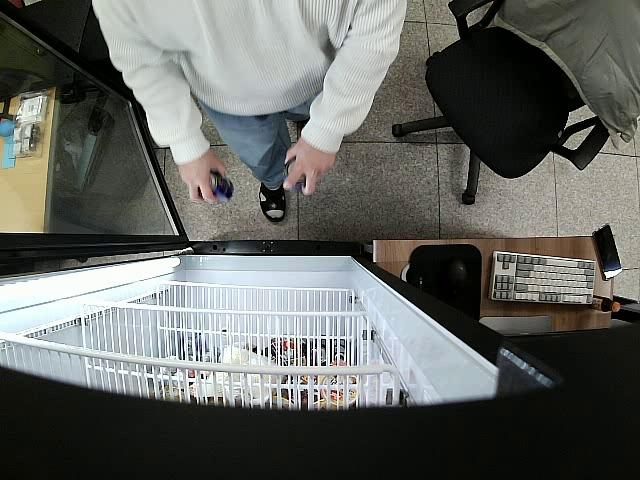00_hand: (282, 134, 336, 196), (176, 146, 226, 205)
14_welchsGrape: (197, 168, 235, 206)
